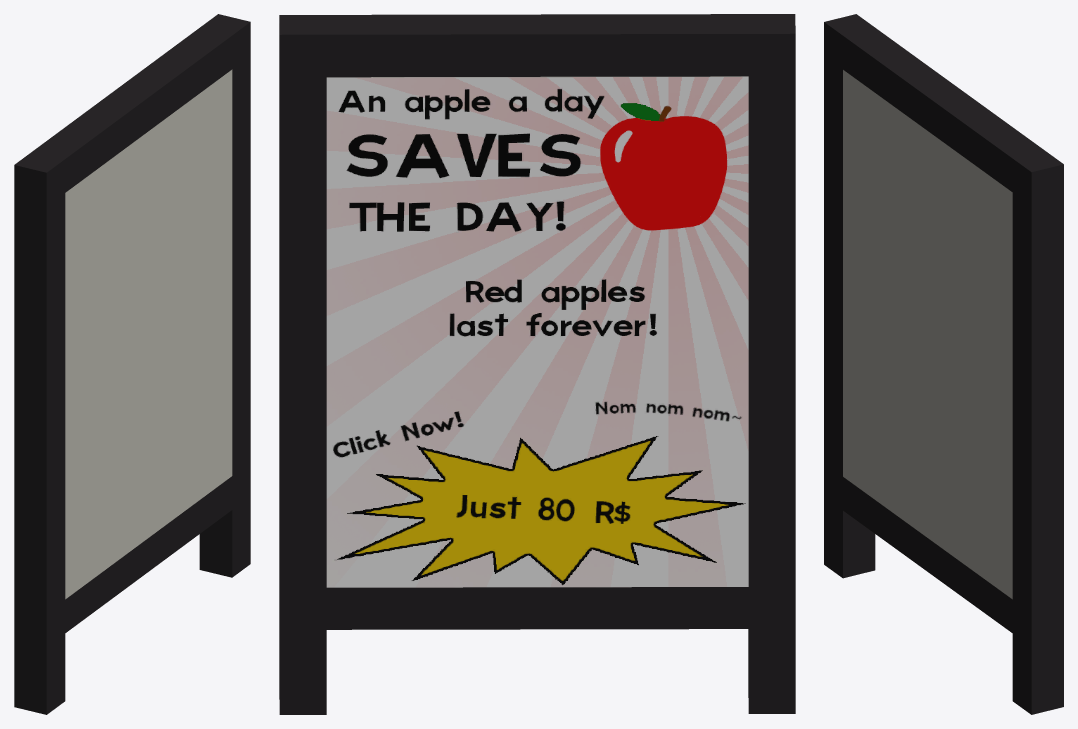
3 renders of one model, left to right at view 1: azimuth 30°, elevation 25°; view 2: azimuth 150°, elevation 25°; view 3: azimuth 270°, elevation 25°, orthographic. The views are drawn at different scales.
Parts seen in each view (by area): view 1: Board1, Part3, Part4, Part1, Part2; view 2: Board2, Part4, Part1, Part3, Part2; view 3: Board1, Part1, Part4, Part3, Part2.
Boxes of the visible parts, x1,y1,x2,y2 form: Board1: (65, 69, 232, 599); Part3: (14, 193, 65, 714); Part4: (14, 14, 250, 206); Part1: (199, 56, 250, 577); Part2: (65, 476, 232, 632); Board2: (326, 76, 748, 587); Part4: (279, 14, 795, 77); Part1: (279, 66, 326, 714); Part3: (748, 76, 795, 713); Part2: (326, 587, 748, 629); Board1: (843, 70, 1012, 599); Part1: (1012, 193, 1063, 714); Part4: (824, 14, 1063, 205); Part3: (824, 56, 875, 578); Part2: (843, 477, 1012, 632).
Bounding box in the file's own units: 10.01 × 16 × 6.41.
3 materials, 1 textured.
